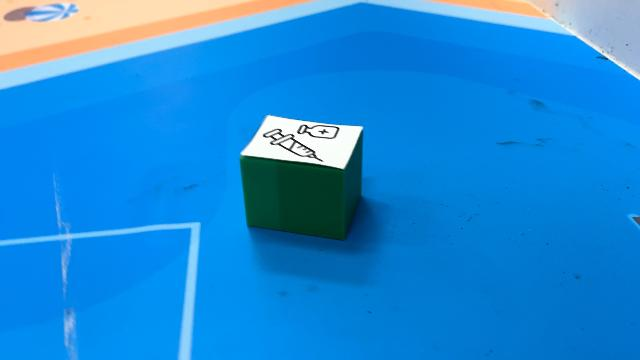syringe: (242, 116, 364, 241)
